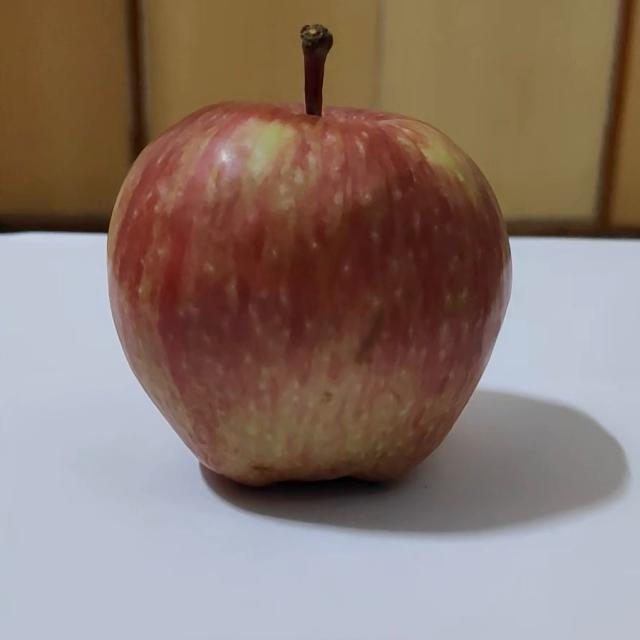apple: (103, 17, 516, 487)
